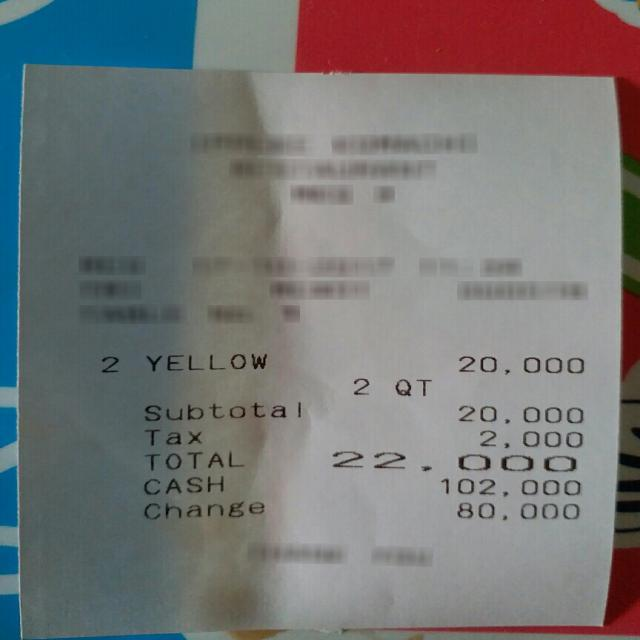kertas: (19, 65, 621, 638)
